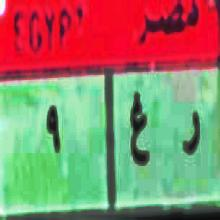9: (46, 103, 61, 154)
ghayn: (130, 87, 152, 173)
raa: (180, 110, 202, 164)
